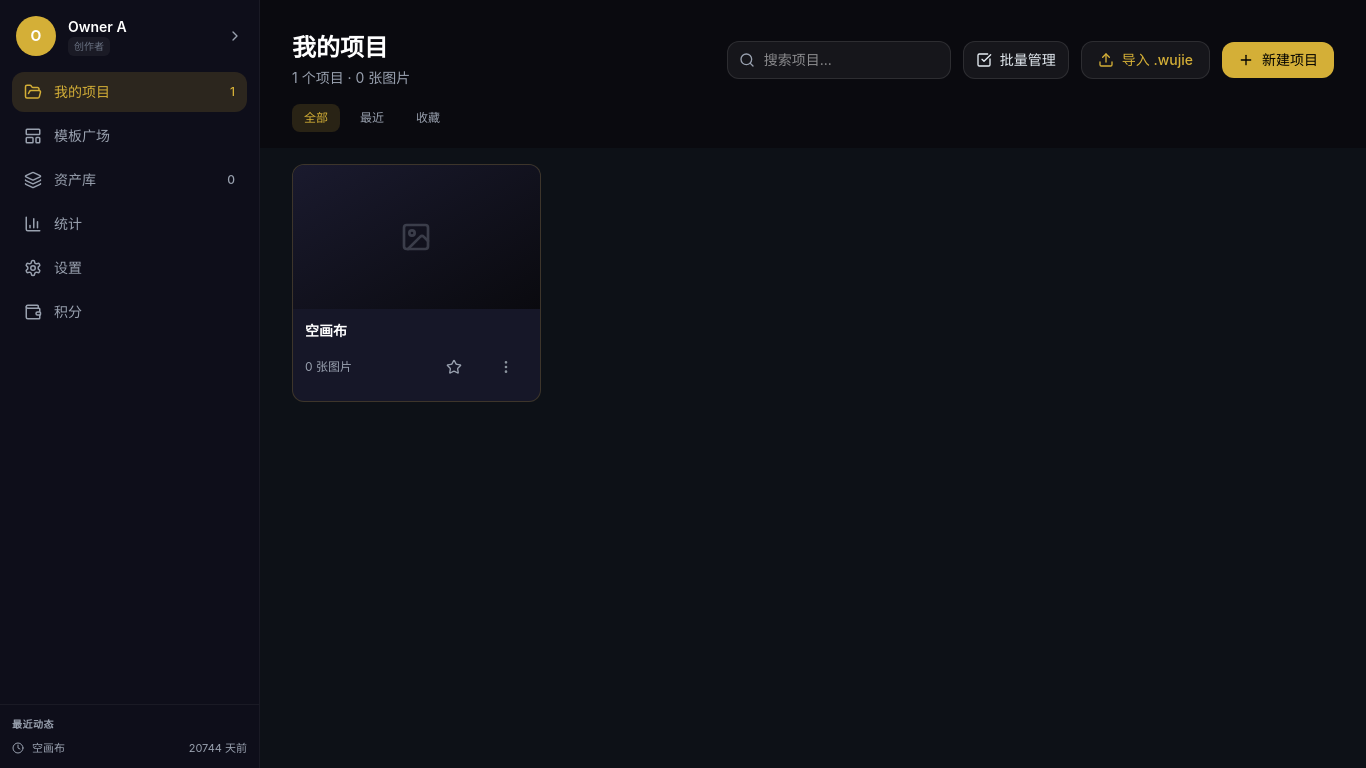
Test: dashboard authenticated project hydration › opens collaboration for the refreshed owner project after pre-login demo hydration
Press Enter in the button named "空画布 项目操作菜单", box [484, 345, 528, 389]
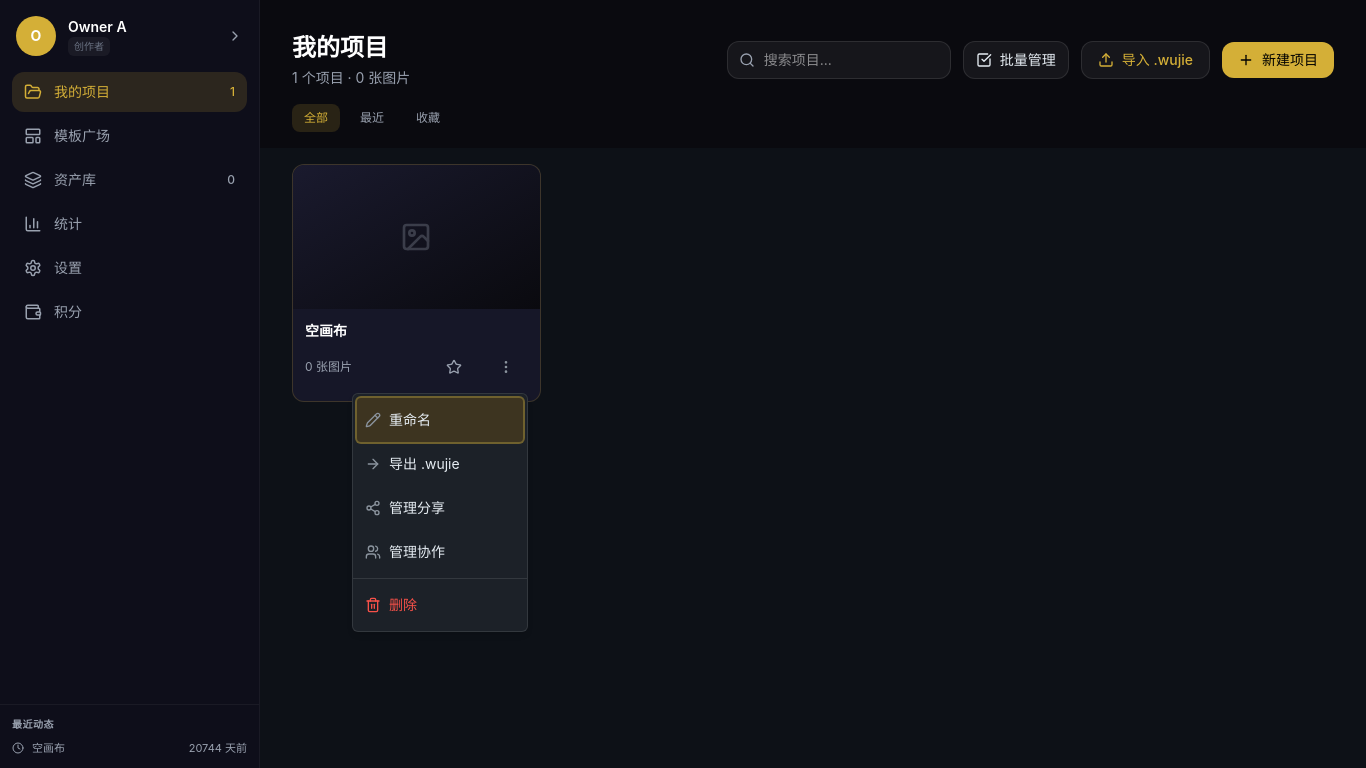
Click the menu item "管理协作" at (405, 552), box [365, 543, 445, 560]
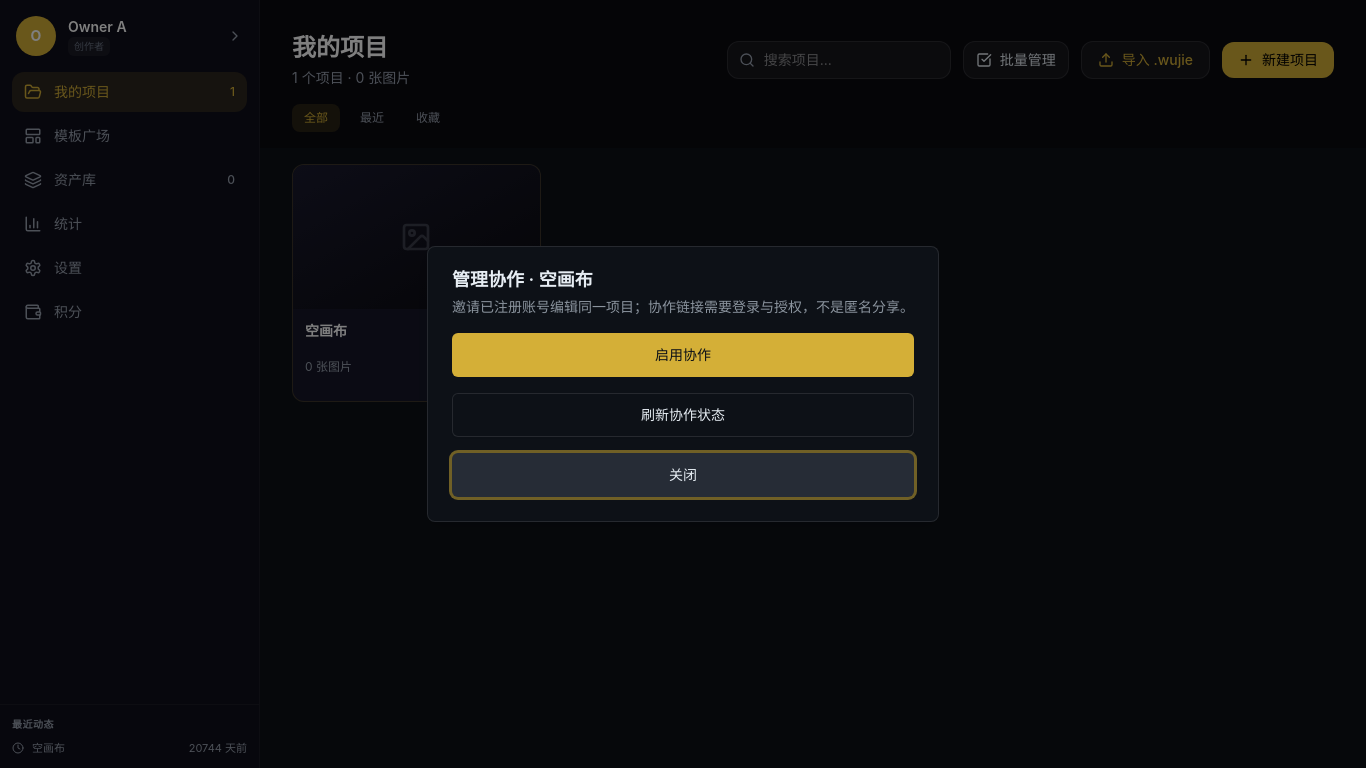
Expected: the dialog is shown, [427, 246, 939, 522]
Expected: the button "启用协作" is shown, [452, 333, 914, 377]
